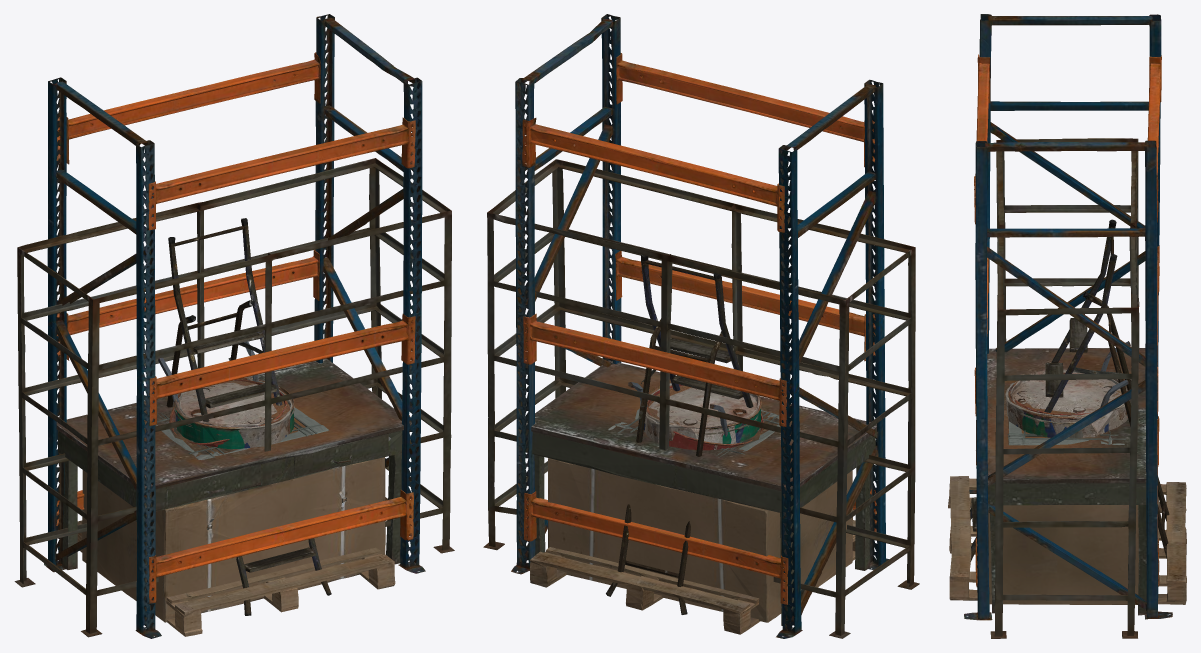
Rendered from warehouse.glb.
3 renders of one model, left to right at view 1: azimuth 30°, elevation 25°; view 2: azimuth 150°, elevation 25°; view 3: azimuth 270°, elevation 25°, orthographic. The views are drawn at different scales.
Visible parts, largest first — view 1: wbslaikga, vhtmaifaw, wbuidixga, vgyidauaw, vh1jeck, vh2jfjes, ui1maewga, teufceuda, vh3lbfy, uizhacnga; view 2: wbslaikga, vhtmaifaw, wbuidixga, vgyidauaw, vh1jeck, vh2jfjes, ui1maewga, teufceuda, tewscfuda, vh3lbfy; view 3: wbslaikga, vhtmaifaw, wbuidixga, vgyidauaw, vh1jeck, vh2jfjes, ui1maewga, uizhacnga, vh3lbfy, teufceuda, teraccgda.
Boxes of the visible parts, x1,y1,x2,y2 form: wbslaikga: (44, 14, 425, 638); vhtmaifaw: (14, 158, 454, 637); wbuidixga: (56, 358, 411, 625); vgyidauaw: (82, 457, 385, 622); vh1jeck: (77, 520, 395, 636); vh2jfjes: (166, 218, 331, 615); ui1maewga: (174, 377, 292, 427); teufceuda: (174, 378, 294, 449); vh3lbfy: (156, 408, 328, 459); uizhacnga: (179, 378, 292, 447); wbslaikga: (511, 14, 888, 638); vhtmaifaw: (483, 159, 919, 638); wbuidixga: (521, 360, 876, 626); vgyidauaw: (548, 458, 852, 622); vh1jeck: (529, 520, 855, 634); vh2jfjes: (606, 254, 753, 614); ui1maewga: (638, 387, 759, 443); teufceuda: (646, 381, 761, 443); tewscfuda: (647, 384, 763, 450); vh3lbfy: (608, 408, 790, 457); wbslaikga: (964, 14, 1172, 620); vhtmaifaw: (990, 138, 1139, 638); wbuidixga: (987, 348, 1146, 615); vgyidauaw: (988, 505, 1138, 604); vh1jeck: (948, 476, 1186, 604); vh2jfjes: (970, 219, 1169, 561); ui1maewga: (1010, 368, 1121, 437); uizhacnga: (1005, 370, 1127, 430); vh3lbfy: (1007, 383, 1126, 445); teufceuda: (1008, 380, 1121, 437); teraccgda: (1008, 369, 1118, 437).
Size of the model in its own units: 2.03 by 2.59 by 1.18.
Materials: 30 (30 with a texture image).
